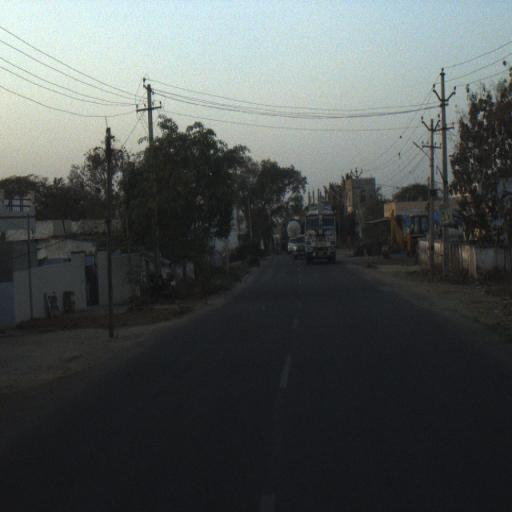street_light_0: (412, 142, 435, 168)
